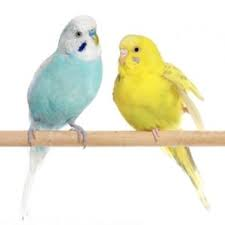budgie: (113, 33, 207, 200), (22, 15, 104, 167)
